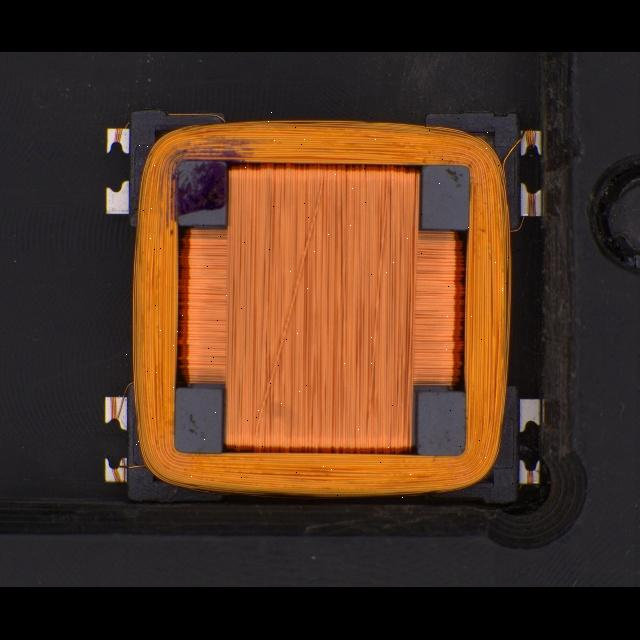Winding_Z: (119, 110, 520, 502)
